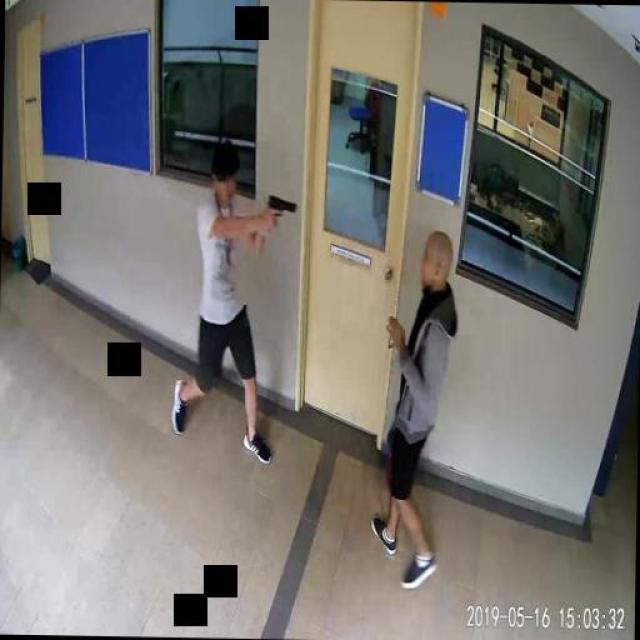gun: (266, 192, 295, 228)
